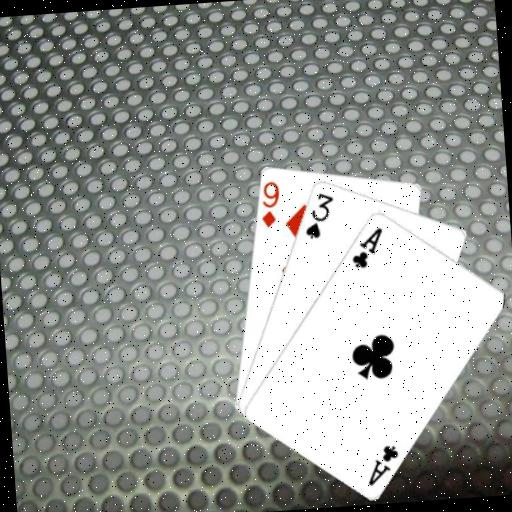3S: (300, 189, 338, 241)
9D: (256, 177, 283, 230)
AC: (347, 223, 387, 270), (363, 440, 403, 487)
